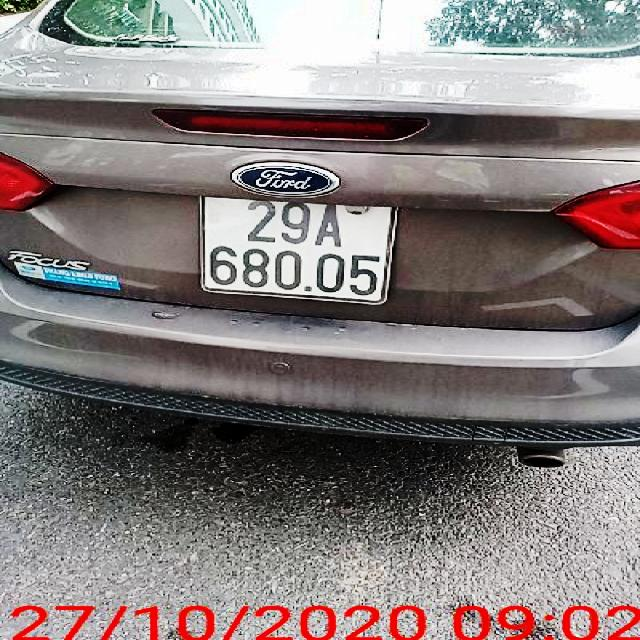license_plate: (203, 199, 401, 300)
